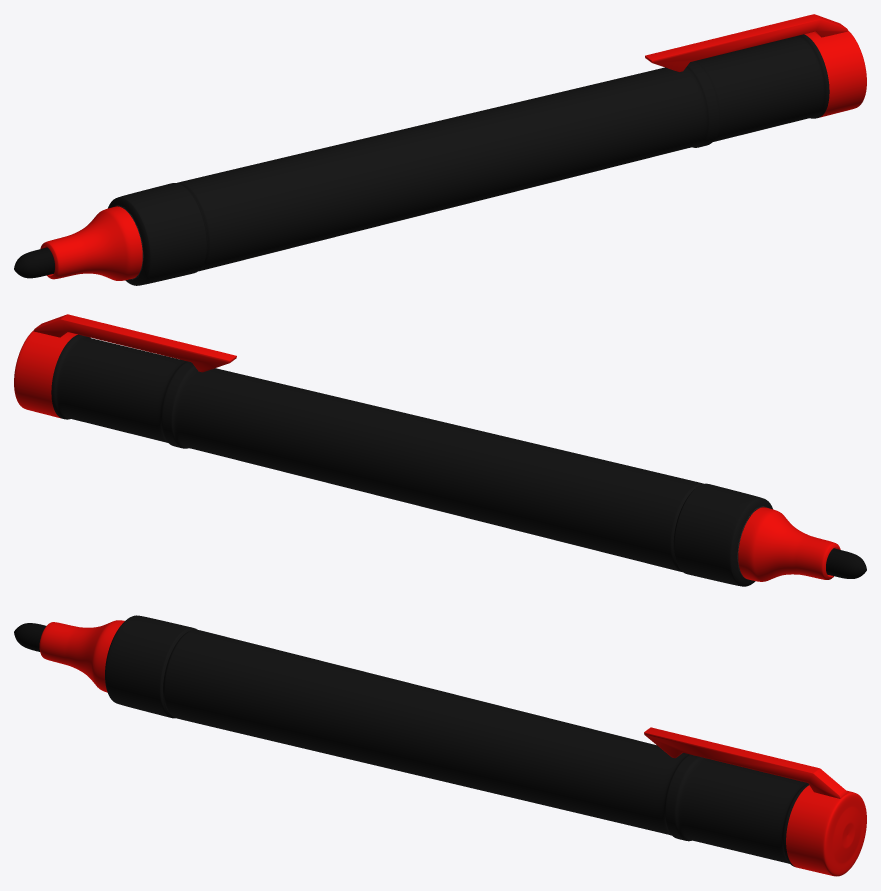
The model's file is black_marker.glb.
The picture shows the model from 3 angles, top to bottom: view 1: azimuth 30°, elevation 25°; view 2: azimuth 150°, elevation 25°; view 3: azimuth 330°, elevation 25°; orthographic projection.
Visible parts, largest first — view 1: Point_0, Point.001_2, Vert_1, Point.003_4, Point.002_3; view 2: Point_0, Point.001_2, Vert_1, Point.003_4, Point.002_3; view 3: Point_0, Point.003_4, Vert_1, Point.001_2, Point.002_3.
Boxes of the visible parts, x1,y1,x2,y2 form: Point_0: (108,34,829,285); Point.001_2: (40,206,142,280); Vert_1: (645,14,848,72); Point.003_4: (804,31,866,117); Point.002_3: (14,247,54,278); Point_0: (51,334,772,586); Point.001_2: (738,507,840,581); Vert_1: (33,314,236,372); Point.003_4: (14,330,77,418); Point.002_3: (826,548,866,578); Point_0: (105,615,808,866); Point.003_4: (786,785,866,876); Vert_1: (644,727,847,798); Point.001_2: (39,620,124,692); Point.002_3: (14,623,45,651).
Bounding box in the file's own units: 9.66 × 1.1 × 0.9302.
